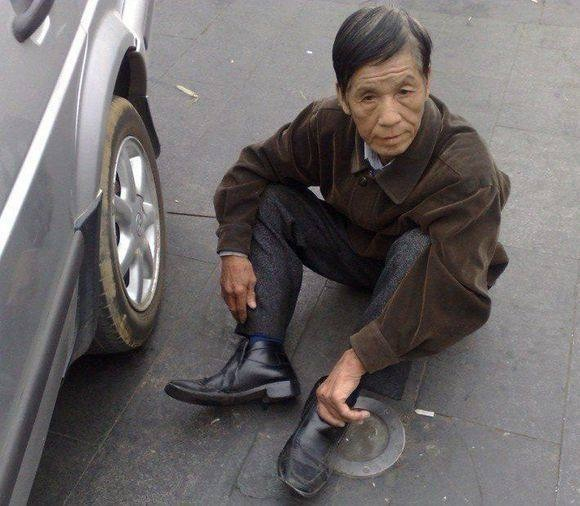falling: (163, 0, 531, 453)
